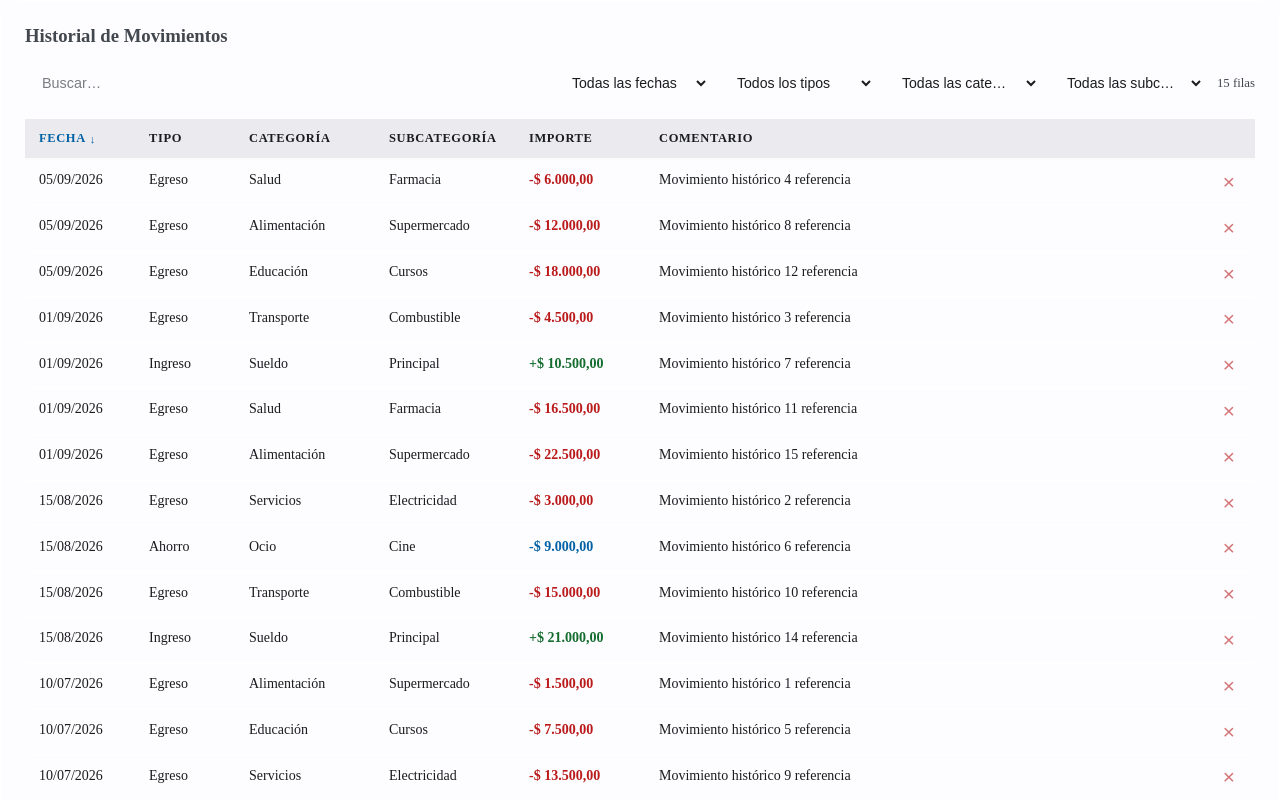
Test: TransactionsList Empirical Challenger (Milestone 4 Deep Validation) › Column Filters (Fecha, Tipo, Categoría, Subcategoría) › populates distinct months in Fecha dropdown and filters correctly
# Filter by 07/2026
Select "07/2026" in the dropdown named "filtrar por fecha" at {"x": 632, "y": 83}, box x1=555 y1=63 x2=710 y2=103
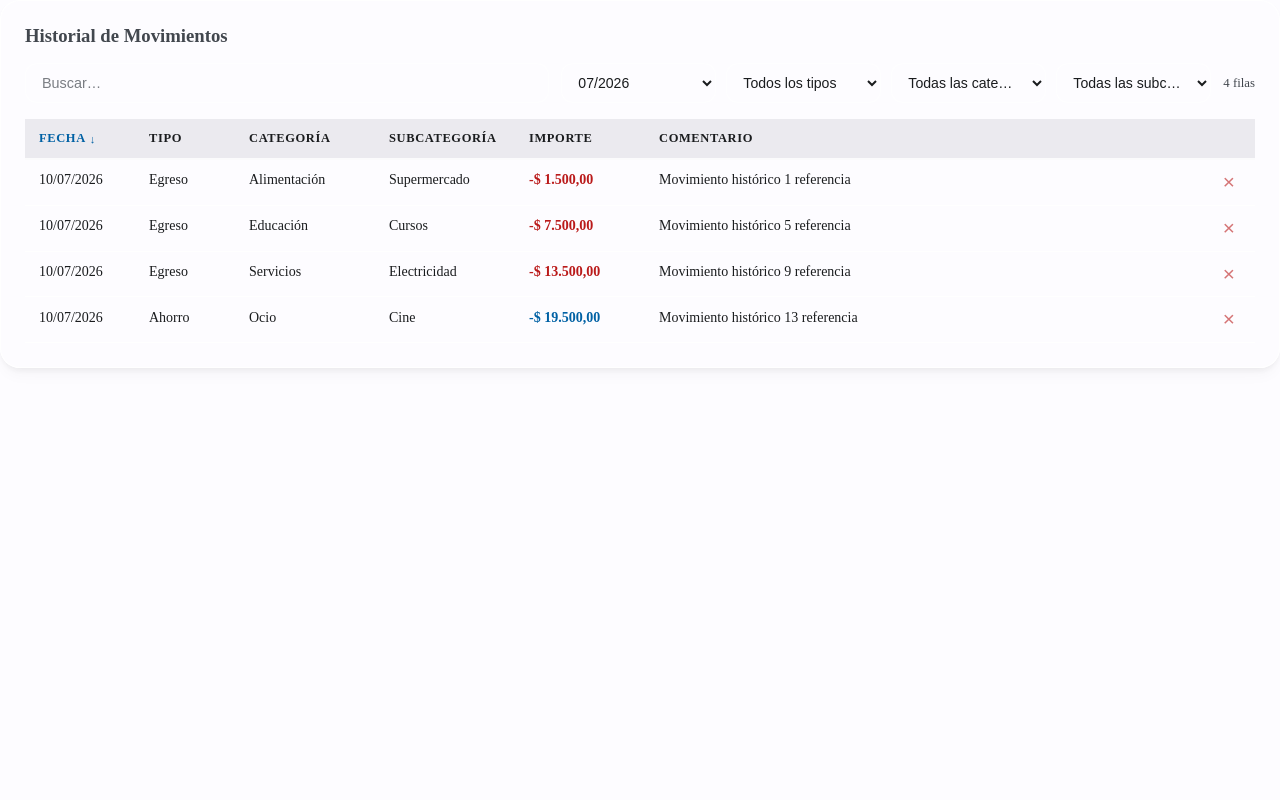
expect the text "10/07/2026" in the row of "Alimentación" is shown: met, box x1=39 y1=172 x2=103 y2=187
expect the text "01/09/2026" is gone: met
